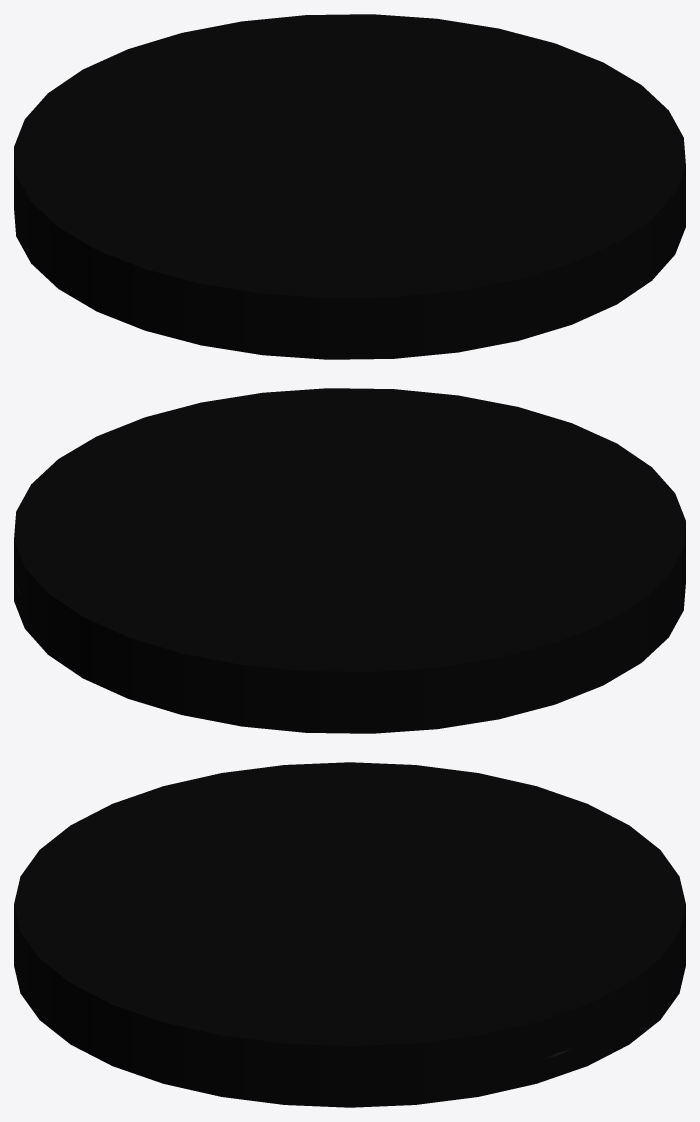
Rendered from base_lamp_center.glb.
3 renders of one model, top to bottom at view 1: azimuth 30°, elevation 25°; view 2: azimuth 150°, elevation 25°; view 3: azimuth 270°, elevation 25°, orthographic.
Parts seen in each view (by area): view 1: Base Lamp Center; view 2: Base Lamp Center; view 3: Base Lamp Center.
Boxes of the visible parts, left/top/right/bottom form: Base Lamp Center: left=14, top=14, right=685, bottom=359; Base Lamp Center: left=14, top=388, right=685, bottom=733; Base Lamp Center: left=14, top=762, right=685, bottom=1107.
Size of what is drawn, in the model's own units: 6.85 by 1.96 by 6.85.
Materials: 1 (1 with a texture image).
